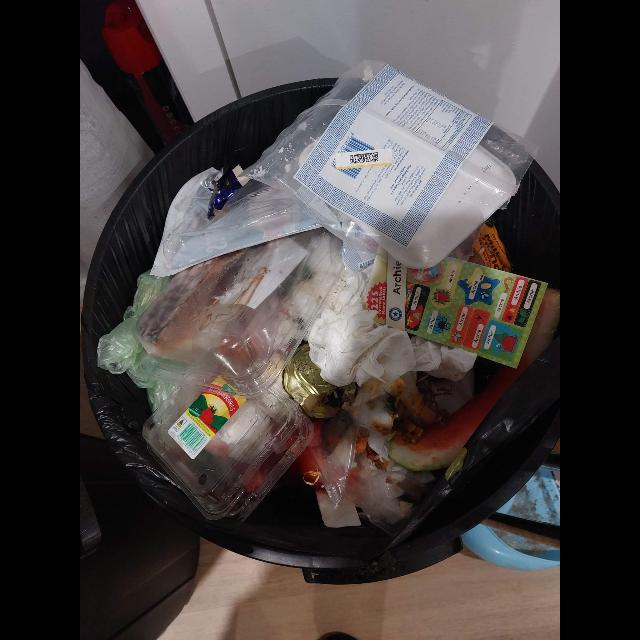metal: (283, 342, 343, 419)
paper: (308, 309, 477, 387)
plastic: (97, 269, 176, 406)
wrapper: (242, 60, 532, 272), (150, 168, 322, 278), (208, 164, 250, 218)
